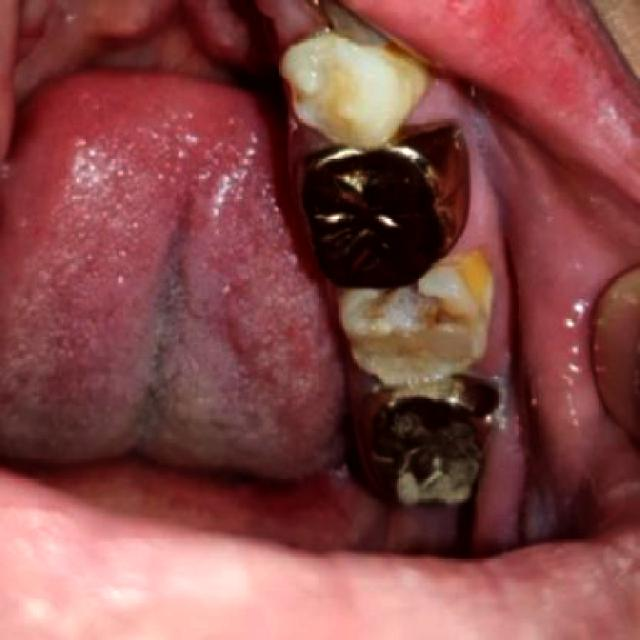Plaque: (452, 230, 514, 384), (356, 286, 455, 335)
